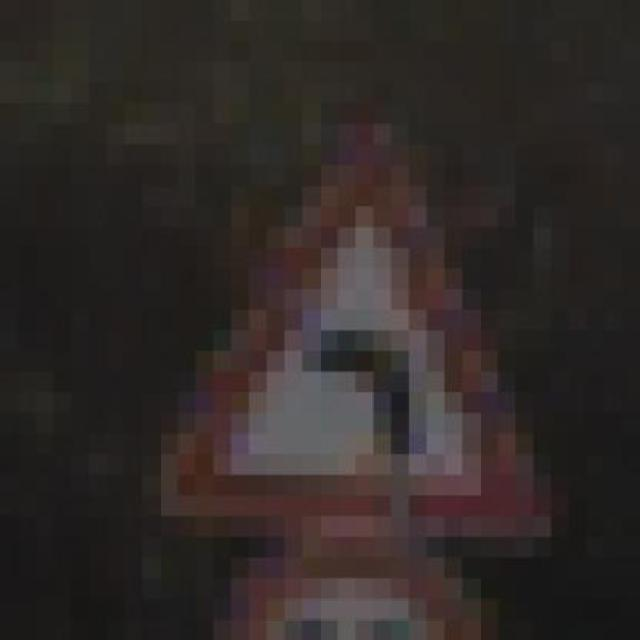Dangerous Left Curve Ahead: (124, 124, 587, 558)
